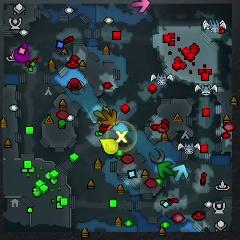Other: (116, 130, 128, 144)
p3: (13, 42, 31, 63)
p4: (100, 139, 118, 154)
x1: (131, 0, 151, 13)
x2: (93, 106, 109, 124)
x3: (173, 164, 188, 183)
x4: (158, 160, 174, 179)
x5: (100, 110, 117, 126)
